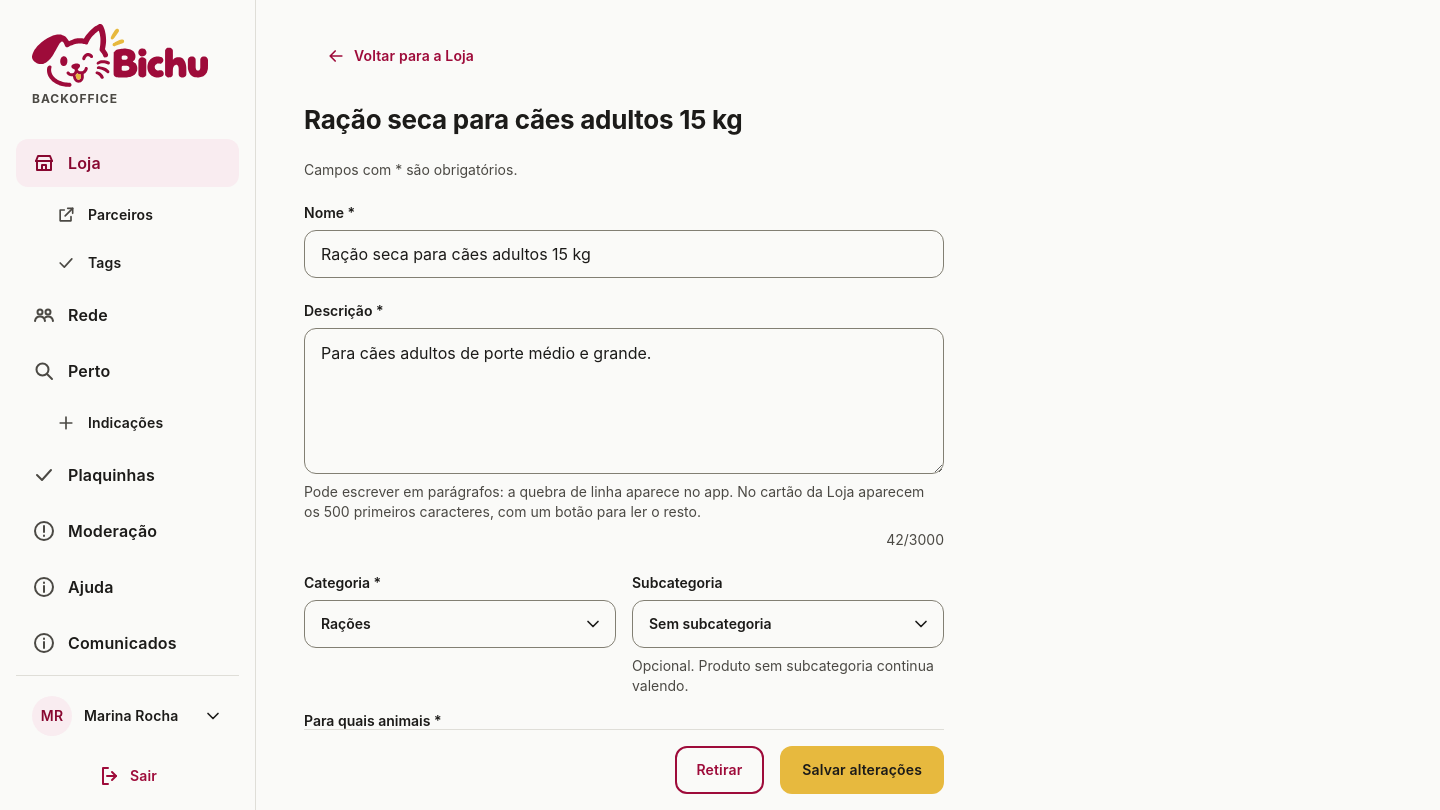
Test: 3 · Loja: formulario › editar produto publicado: If-Match e Retirar com confirmacao, sem senha
Click the button "Retirar".
click(719, 770)  # box [674,746,764,794]
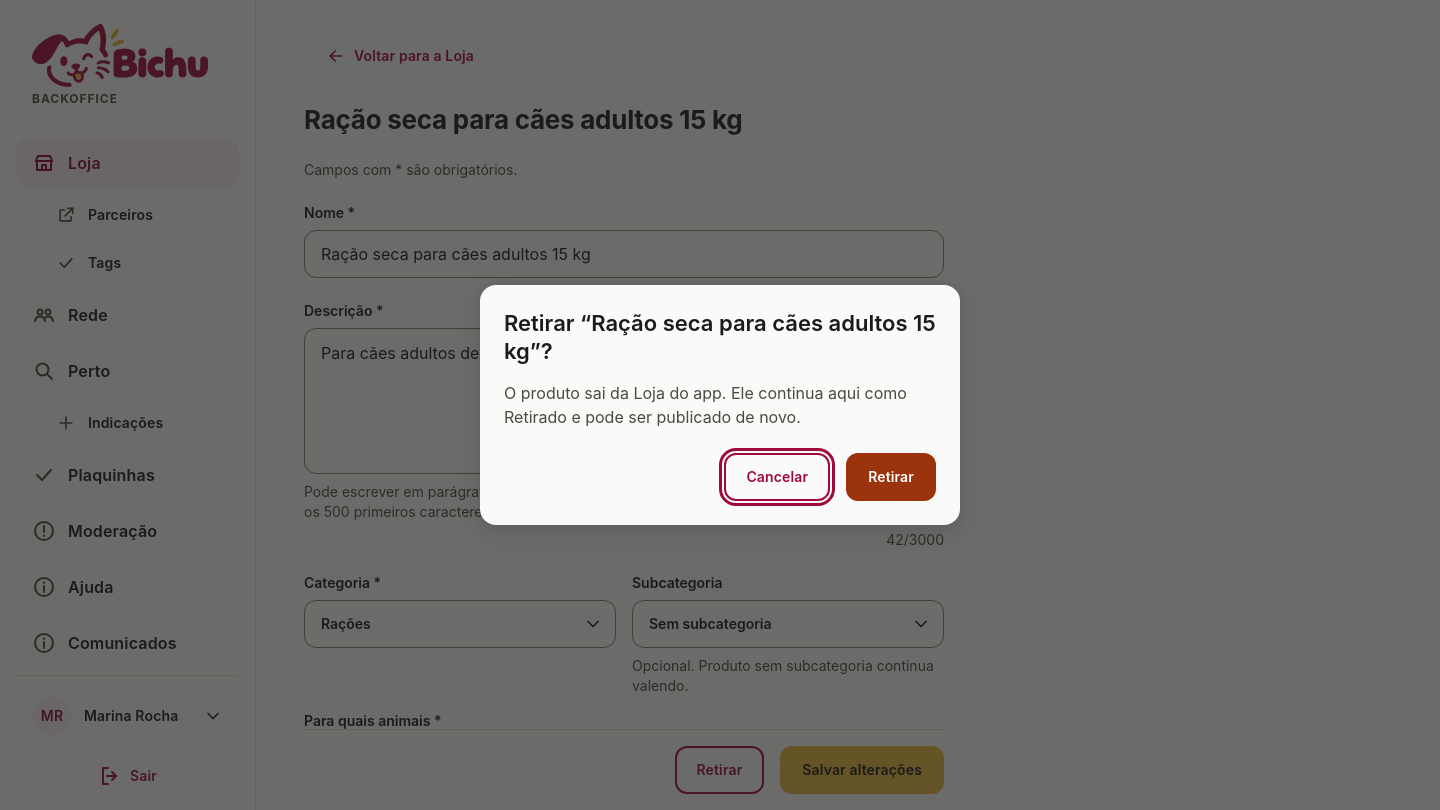
Click the button "Retirar".
click(891, 477)  # box [846,453,936,501]
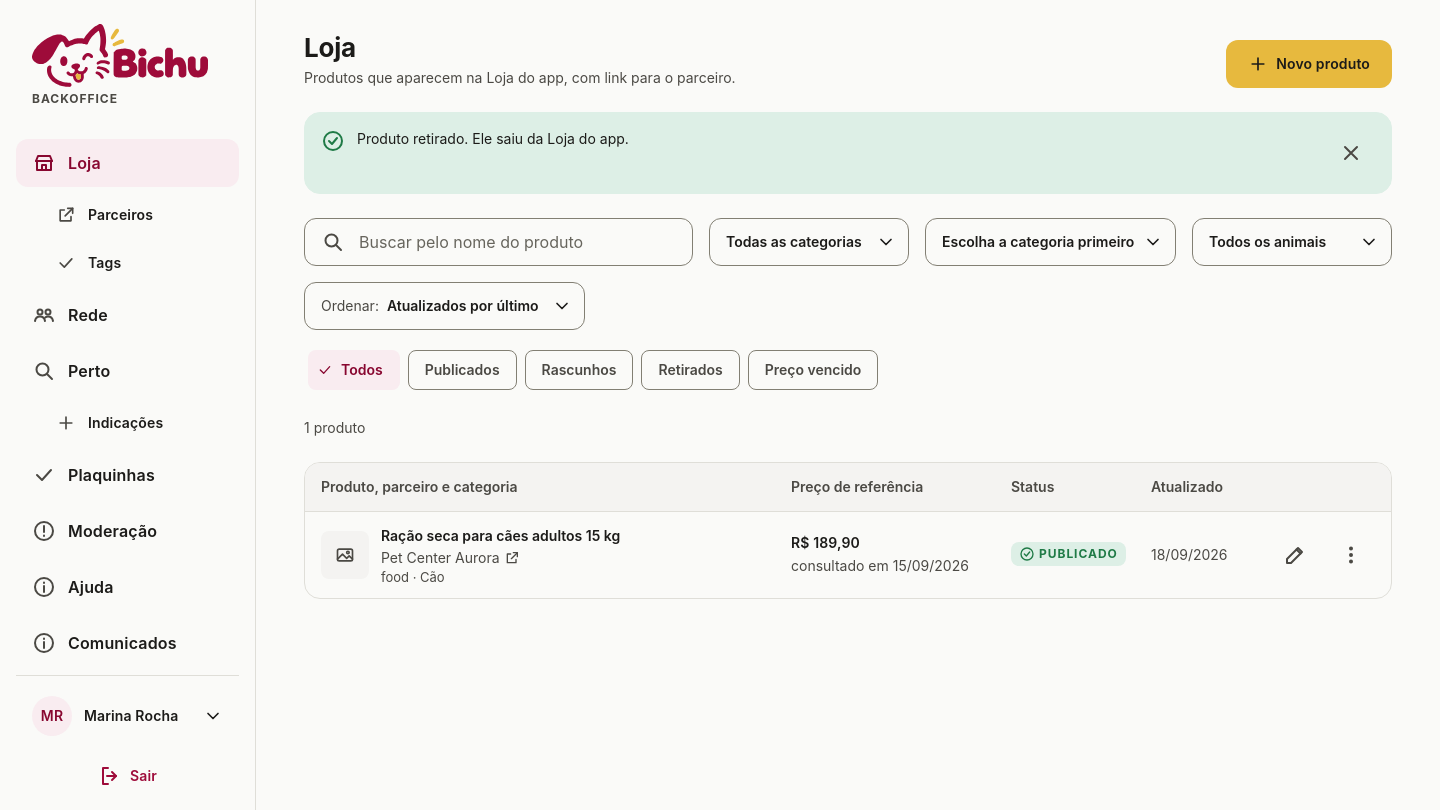
Expected: the text "Produto retirado. Ele saiu da Loja do app." is shown, [357,130,629,147]
